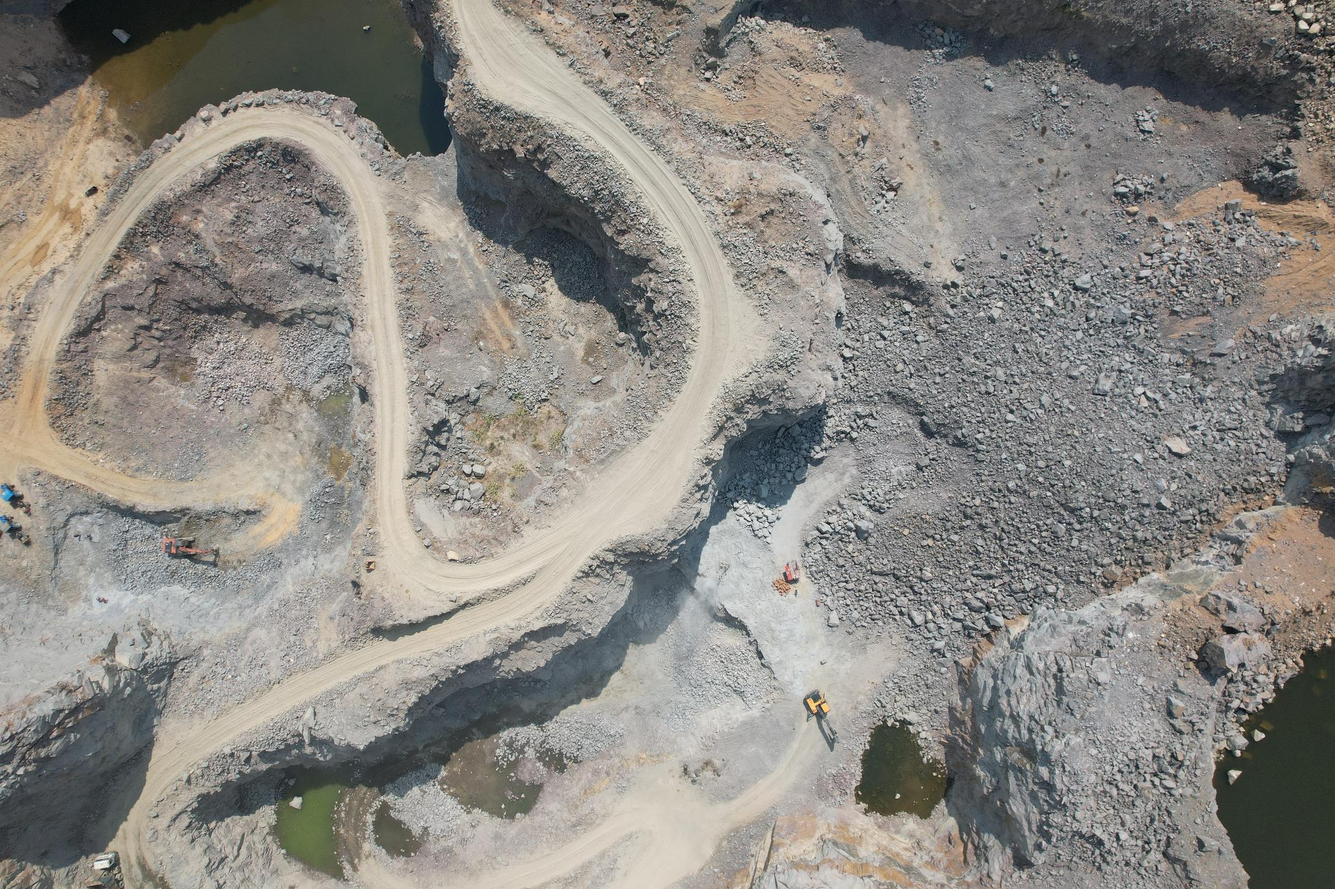benches: (0, 0, 759, 829)
excavator: (803, 689, 841, 748), (163, 536, 218, 558)
